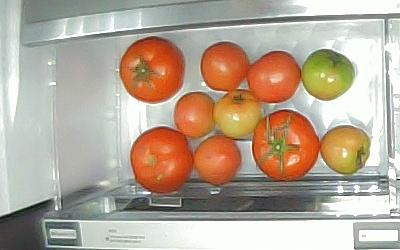tomato: (252, 110, 320, 181), (129, 126, 194, 195), (121, 37, 185, 103), (301, 48, 355, 101), (248, 51, 301, 103), (320, 125, 370, 175), (194, 135, 241, 186), (201, 42, 249, 91), (213, 92, 260, 139), (175, 92, 215, 139)
